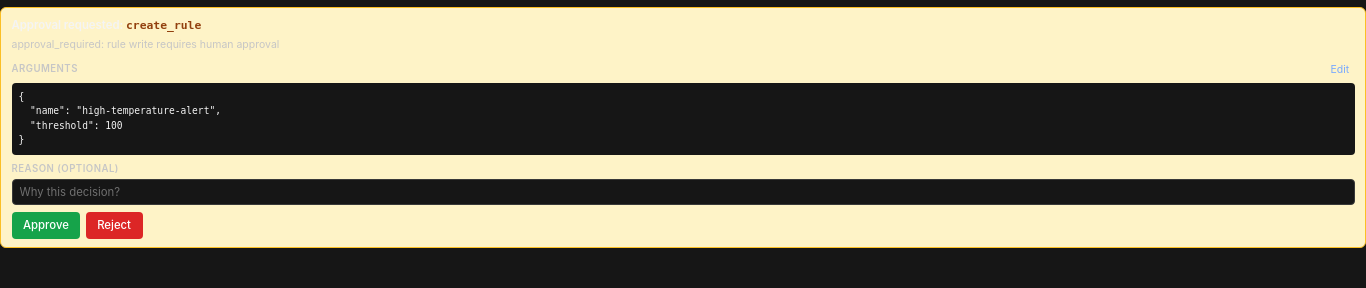
PendingApprovalSection › error handling › surfaces non-409 status codes with the original message
Click the button with test id "approval-approve".
click(46, 225)  # box x1=12 y1=212 x2=80 y2=239
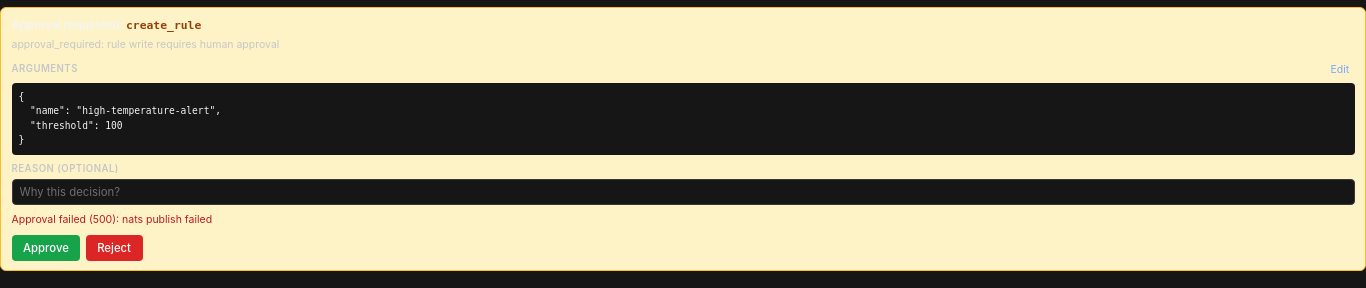
Expected: the message with test id "approval-submit-error" shows "Approval failed (500)", x1=12 y1=213 x2=212 y2=226
Expected: the message with test id "approval-submit-error" shows "nats publish failed", x1=12 y1=213 x2=212 y2=226
